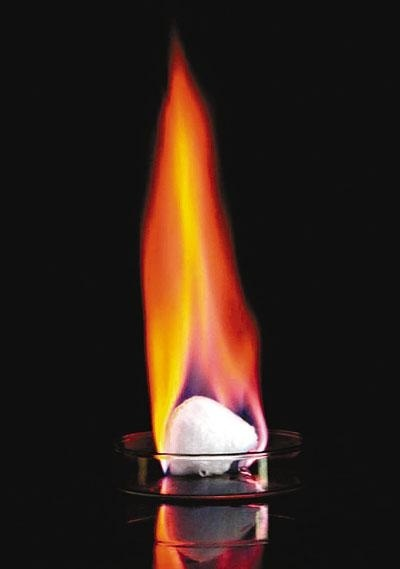fire: (105, 41, 282, 450), (152, 472, 186, 567)
